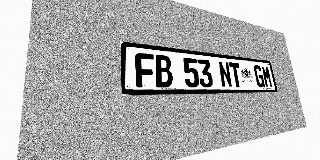3: (197, 59, 213, 87)
5: (183, 57, 200, 87)
B: (154, 54, 173, 87)
F: (135, 52, 156, 88)
G: (253, 65, 265, 87)
M: (261, 66, 273, 87)
N: (218, 61, 233, 87)
T: (229, 62, 243, 87)
